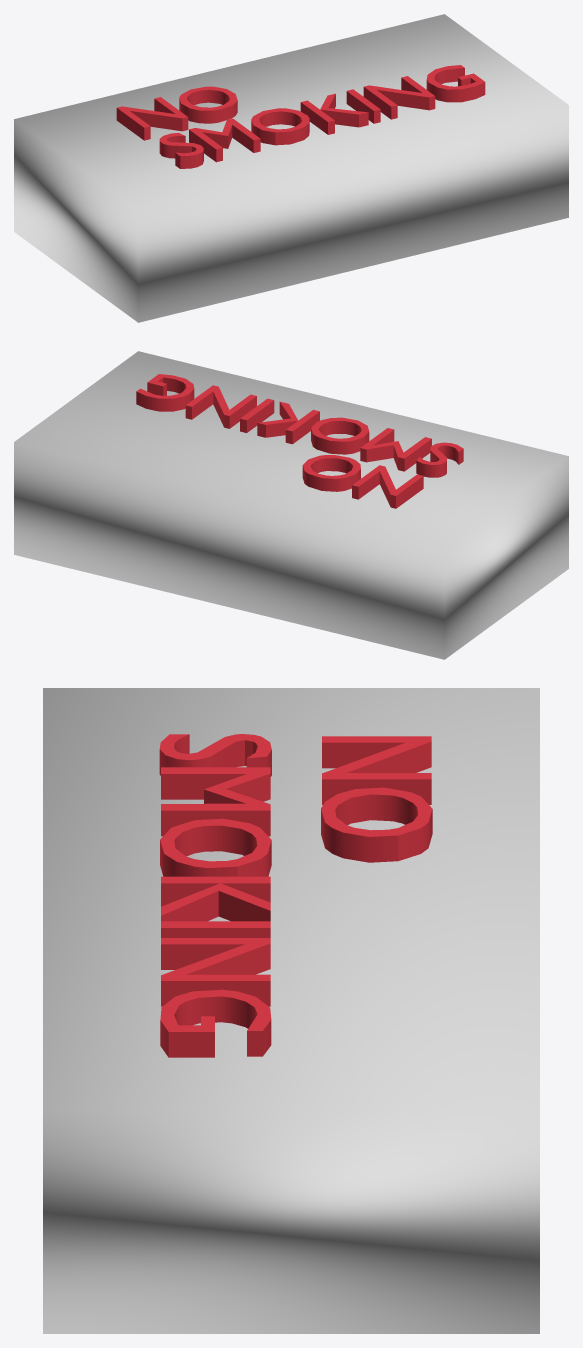
File: noSmokePoster.gltf
The picture shows the model from 3 angles, top to bottom: view 1: azimuth 30°, elevation 25°; view 2: azimuth 150°, elevation 25°; view 3: azimuth 270°, elevation 25°; orthographic projection. The views are drawn at different scales.
Parts seen in each view (by area): view 1: Cube, Text; view 2: Cube, Text; view 3: Cube, Text.
Boxes of the visible parts, left/top/right/bottom form: Cube: left=14, top=14, right=568, bottom=322; Text: left=116, top=65, right=485, bottom=168; Cube: left=14, top=351, right=568, bottom=659; Text: left=136, top=374, right=463, bottom=508; Cube: left=43, top=688, right=539, bottom=1333; Text: left=159, top=734, right=432, bottom=1057.
Bounding box in the file's own units: 4 × 1.11 × 2.
